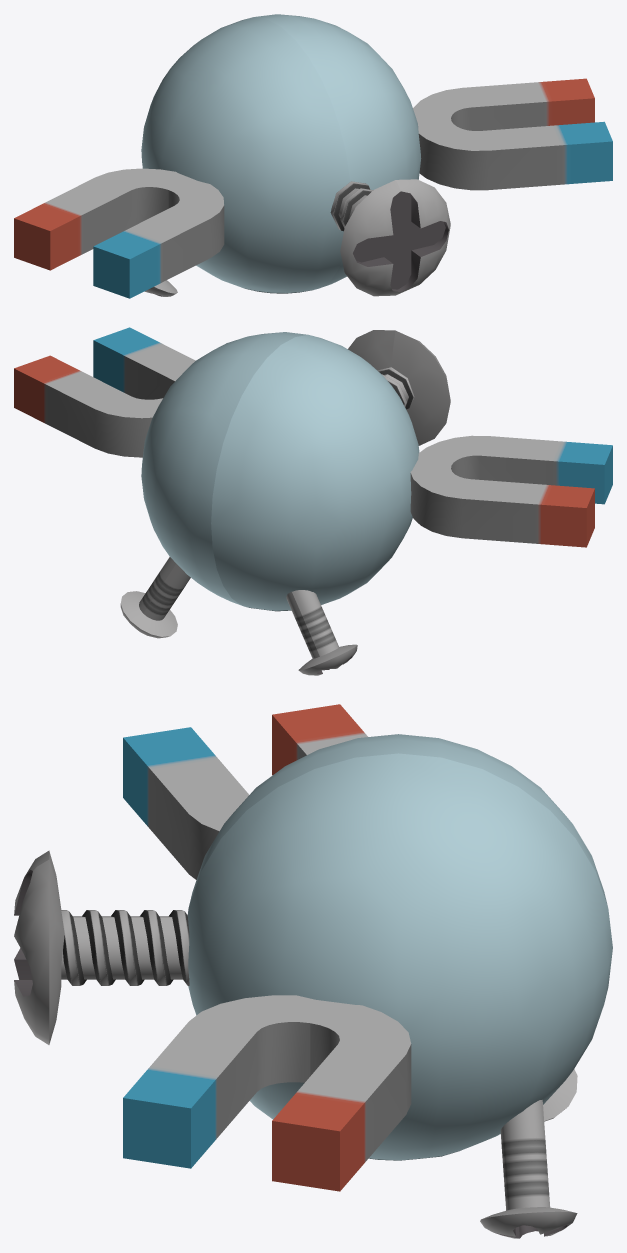
File: Magnemite.glb
3 views of the same model, one above another, from view 1: azimuth 30°, elevation 25°; view 2: azimuth 150°, elevation 25°; view 3: azimuth 270°, elevation 25° (orthographic). The views are drawn at different scales.
Visible parts, largest first — view 1: mesh_1_pm0081_00_Skin_006, mesh_5_pm0081_00_Skin_006, mesh_6_pm0081_00_Skin_006, mesh_4_pm0081_00_Skin_006, mesh_0_pm0081_00_Skin_006, mesh_7_pm0081_00_Skin_006; view 2: mesh_1_pm0081_00_Skin_006, mesh_5_pm0081_00_Skin_006, mesh_6_pm0081_00_Skin_006, mesh_7_pm0081_00_Skin_006, mesh_3_pm0081_00_Skin_006, mesh_4_pm0081_00_Skin_006; view 3: mesh_1_pm0081_00_Skin_006, mesh_6_pm0081_00_Skin_006, mesh_5_pm0081_00_Skin_006, mesh_7_pm0081_00_Skin_006, mesh_4_pm0081_00_Skin_006, mesh_3_pm0081_00_Skin_006, mesh_0_pm0081_00_Skin_006.
Part boxes in pixels (x1,y1,x2,y2): mesh_1_pm0081_00_Skin_006: (141,14,421,293); mesh_5_pm0081_00_Skin_006: (14,98,612,298); mesh_6_pm0081_00_Skin_006: (14,78,612,259); mesh_4_pm0081_00_Skin_006: (144,179,450,296); mesh_0_pm0081_00_Skin_006: (155,191,448,296); mesh_7_pm0081_00_Skin_006: (330,181,373,231); mesh_1_pm0081_00_Skin_006: (141,332,419,611); mesh_5_pm0081_00_Skin_006: (14,340,612,547); mesh_6_pm0081_00_Skin_006: (14,327,612,507); mesh_7_pm0081_00_Skin_006: (348,330,450,445); mesh_3_pm0081_00_Skin_006: (120,557,356,670); mesh_4_pm0081_00_Skin_006: (120,338,450,675); mesh_1_pm0081_00_Skin_006: (187,734,612,1160); mesh_6_pm0081_00_Skin_006: (123,704,411,1131); mesh_5_pm0081_00_Skin_006: (123,715,411,1191); mesh_7_pm0081_00_Skin_006: (49,851,189,1044); mesh_4_pm0081_00_Skin_006: (14,850,577,1238); mesh_3_pm0081_00_Skin_006: (483,1069,577,1218); mesh_0_pm0081_00_Skin_006: (14,870,567,1238).
Bounding box in the file's own units: 62.99 × 29.16 × 37.33.
8 materials, 8 textured.
